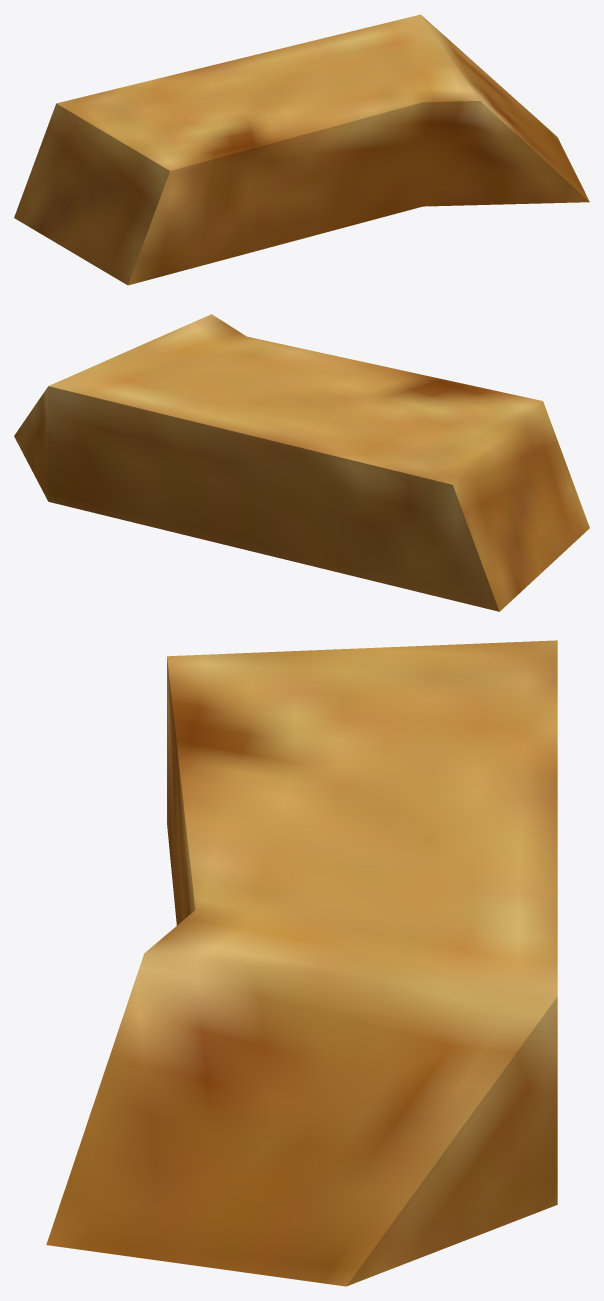
Rendered from Stage_ShaMo_XiaoShiKuai01.FBX.
3 views of the same model, one above another, from view 1: azimuth 30°, elevation 25°; view 2: azimuth 150°, elevation 25°; view 3: azimuth 270°, elevation 25° (orthographic). The views are drawn at different scales.
Visible parts, largest first — view 1: Stage_ShaMo_XiaoShiKuai01; view 2: Stage_ShaMo_XiaoShiKuai01; view 3: Stage_ShaMo_XiaoShiKuai01.
Part boxes in pixels (bbox=[...]): Stage_ShaMo_XiaoShiKuai01: bbox=[14, 14, 589, 285]; Stage_ShaMo_XiaoShiKuai01: bbox=[14, 314, 589, 611]; Stage_ShaMo_XiaoShiKuai01: bbox=[46, 640, 557, 1286].
Bounding box in the file's own units: 75.43 × 15.31 × 34.04.
